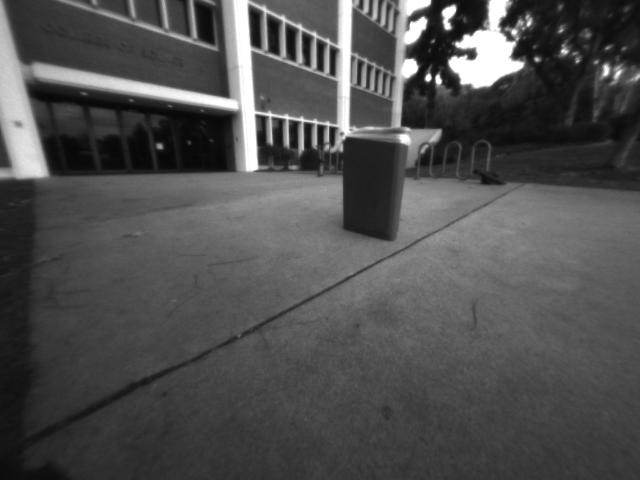trashcan_open: (340, 122, 409, 244)
